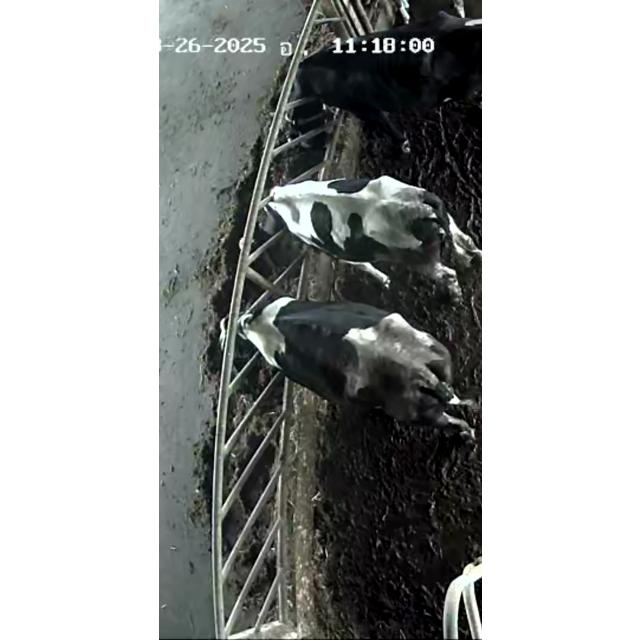eat: (184, 150, 380, 270), (177, 282, 383, 383), (231, 18, 409, 134)
